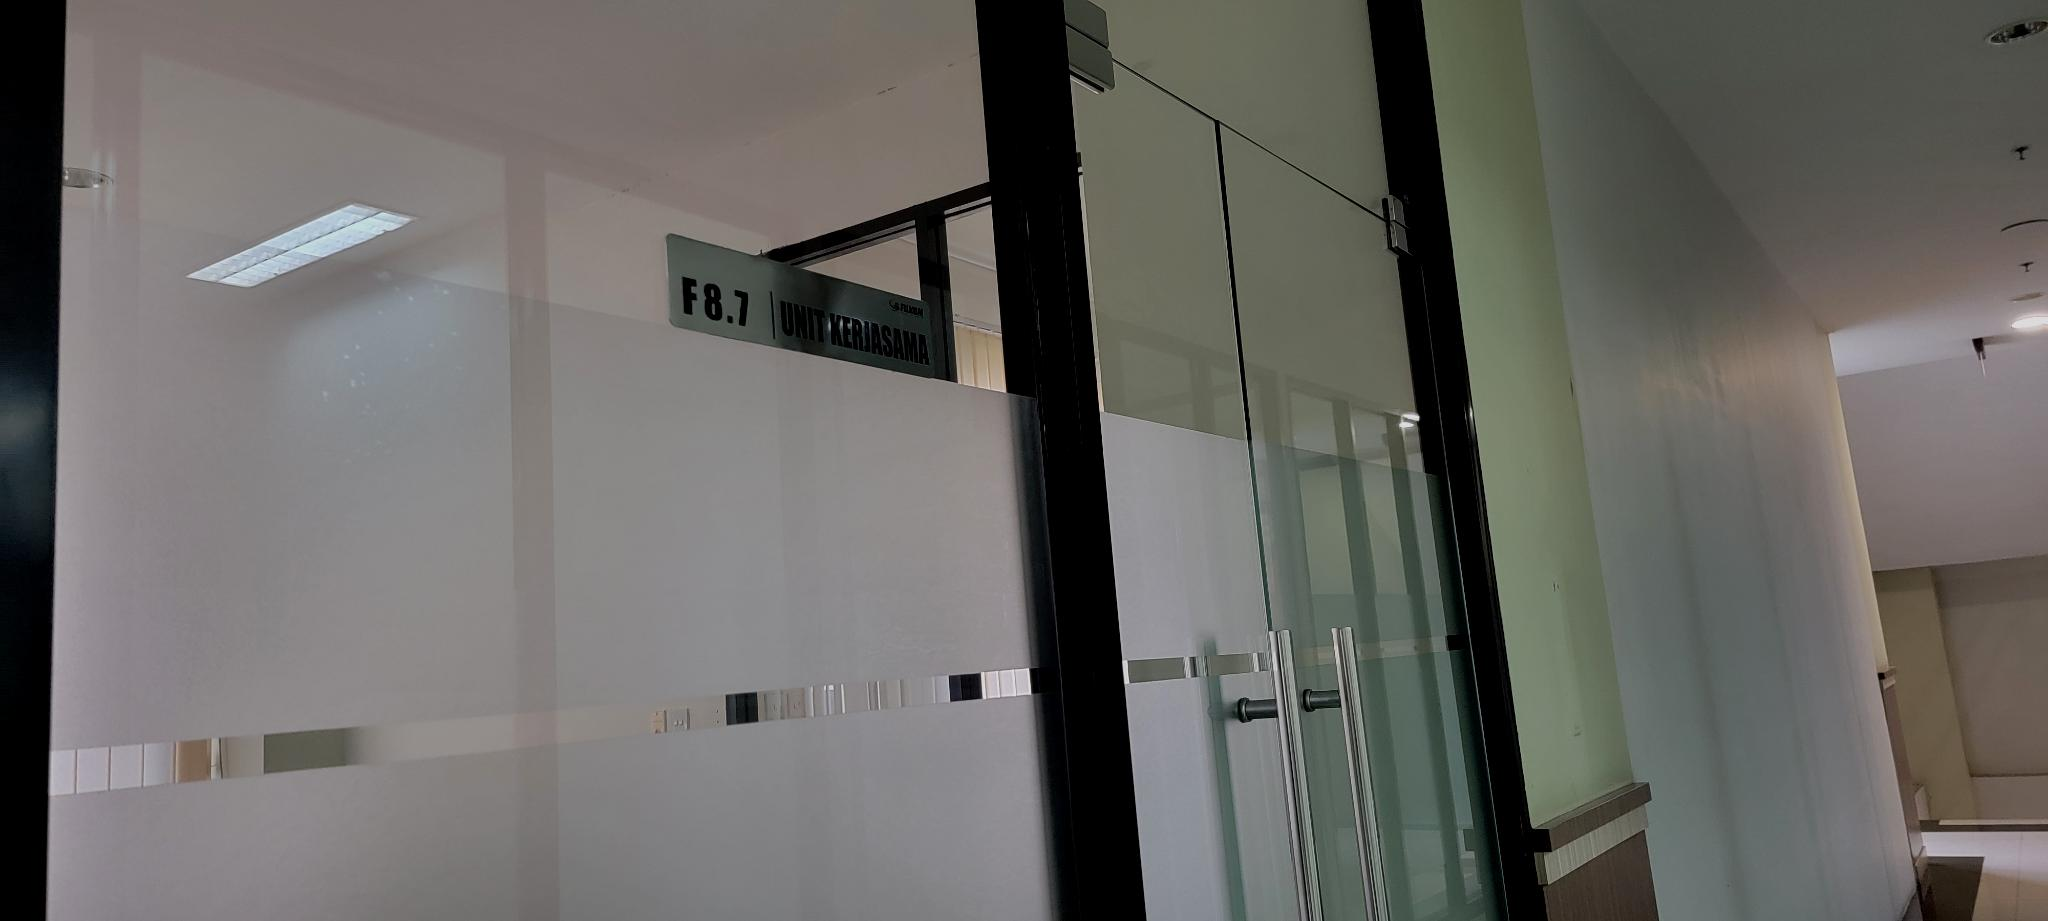plate: (666, 231, 940, 383)
